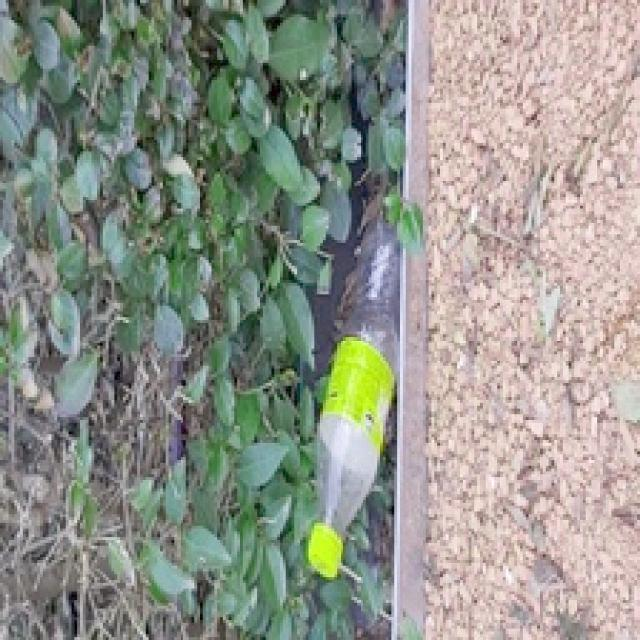bottle: (308, 221, 400, 579)
